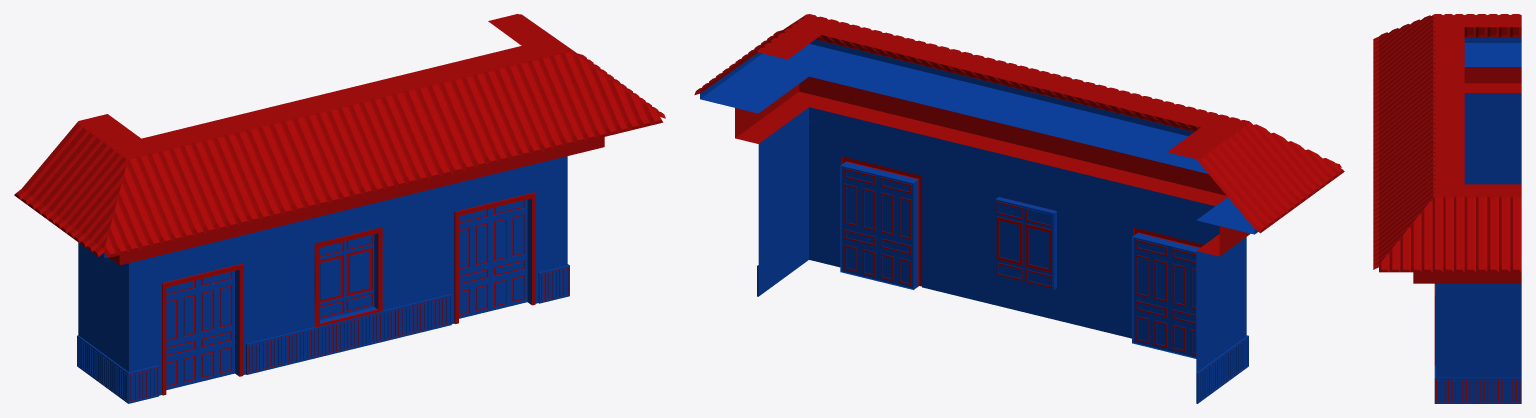
File: House07.fbx
The picture shows the model from 3 angles, left to right: view 1: azimuth 30°, elevation 25°; view 2: azimuth 150°, elevation 25°; view 3: azimuth 270°, elevation 25°; orthographic projection. The views are drawn at different scales.
Parts seen in each view (by area): view 1: RoofCorner15, Roof3M33, Roof3M34, Roof3M32, Door15, Door14, RoofCorner16, Roof2M11, Roof2M10, Wall2M23, Wall2M24, WindowsFirstFloor4 (+21 smaller); view 2: Wall2M24, Wall2M23, WallFrameWindows05, Door15, WallCorner27, Door14, WallFrameDoor26, Roof2M13, Roof3M34, Roof3M33, Wall2M26, RoofCorner15 (+19 smaller); view 3: RoofCorner16, Wall2M26, Wall2M25, Roof2M12, Roof3M33, Roof3M32, Roof3M34, Roof2M13, WallCorner27, Roof2M10, Roof2M11, RoofCorner15 (+6 smaller).
Part boxes in pixels (x1=…): RoofCorner15: x1=48, y1=138, x2=194, y2=258; Roof3M33: x1=288, y1=81, x2=429, y2=200; Roof3M34: x1=434, y1=46, x2=575, y2=165; Roof3M32: x1=142, y1=117, x2=282, y2=236; Door15: x1=459, y1=199, x2=527, y2=318; Door14: x1=166, y1=271, x2=234, y2=390; RoofCorner16: x1=522, y1=38, x2=665, y2=143; Roof2M11: x1=375, y1=67, x2=487, y2=179; Roof2M10: x1=229, y1=103, x2=341, y2=215; Wall2M23: x1=246, y1=220, x2=304, y2=343; Wall2M24: x1=392, y1=184, x2=450, y2=307; WindowsFirstFloor4: x1=314, y1=227, x2=382, y2=327; Wall2M24: x1=925, y1=135, x2=983, y2=302; Wall2M23: x1=1071, y1=171, x2=1129, y2=337; WallFrameWindows05: x1=984, y1=150, x2=1071, y2=323; Door15: x1=841, y1=165, x2=914, y2=289; WallCorner27: x1=792, y1=107, x2=838, y2=271; Door14: x1=1132, y1=237, x2=1196, y2=358; WallFrameDoor26: x1=838, y1=114, x2=925, y2=289; Roof2M13: x1=1167, y1=127, x2=1293, y2=234; Roof3M34: x1=822, y1=22, x2=959, y2=104; Roof3M33: x1=967, y1=57, x2=1105, y2=140; Wall2M26: x1=758, y1=119, x2=792, y2=296; RoofCorner15: x1=1201, y1=114, x2=1344, y2=208; RoofCorner16: x1=1373, y1=184, x2=1464, y2=272; Wall2M26: x1=1464, y1=283, x2=1521, y2=377; Wall2M25: x1=1464, y1=93, x2=1521, y2=184; Roof2M12: x1=1464, y1=184, x2=1521, y2=272; Roof3M33: x1=1373, y1=87, x2=1464, y2=171; Roof3M32: x1=1373, y1=27, x2=1464, y2=111; Roof3M34: x1=1373, y1=148, x2=1464, y2=231; Roof2M13: x1=1464, y1=14, x2=1521, y2=66; WallCorner27: x1=1436, y1=283, x2=1464, y2=377; Roof2M10: x1=1373, y1=63, x2=1464, y2=135; Roof2M11: x1=1373, y1=124, x2=1464, y2=195; RoofCorner15: x1=1373, y1=14, x2=1464, y2=74.
Size of the model in its own units: 1940 by 800 by 520.
